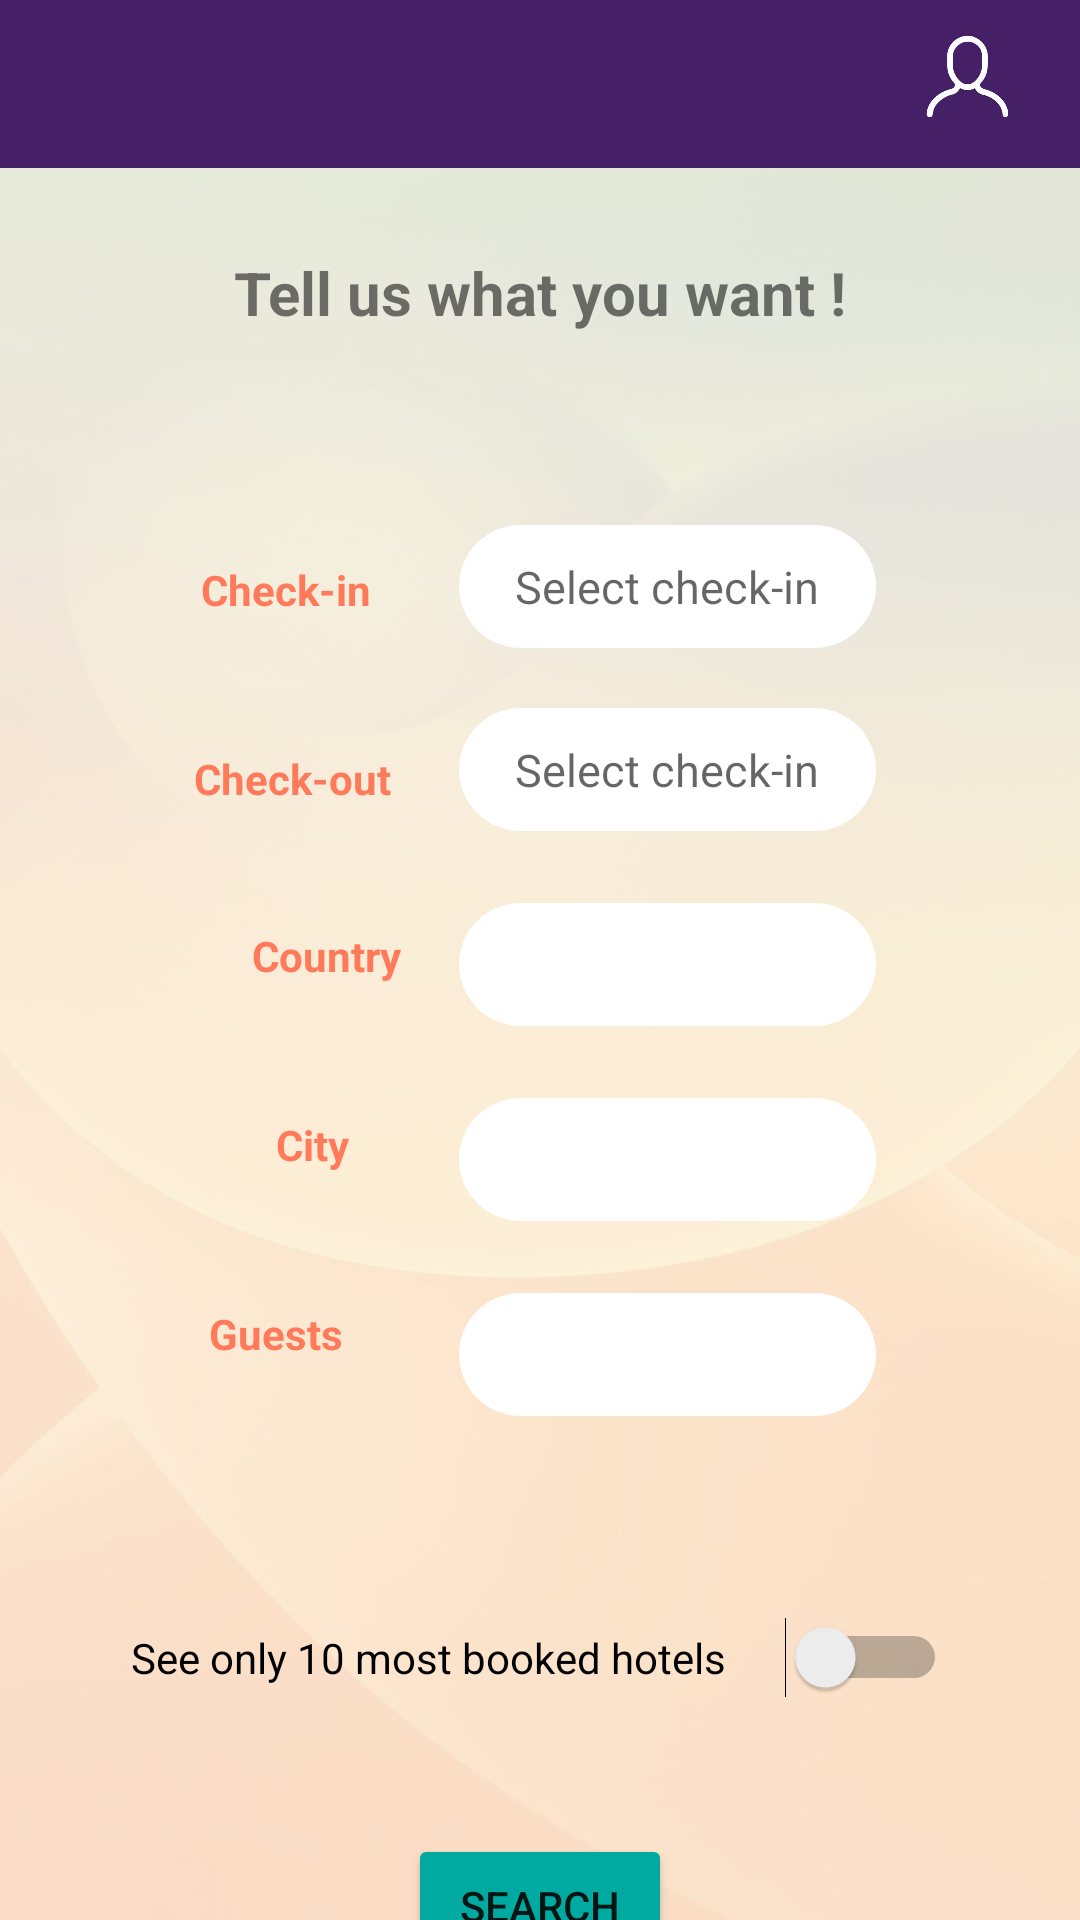

Where icons sit on this 1080*1920 app screen, as region(x1, y1, x2, y2):
profile: region(926, 36, 1008, 117)
